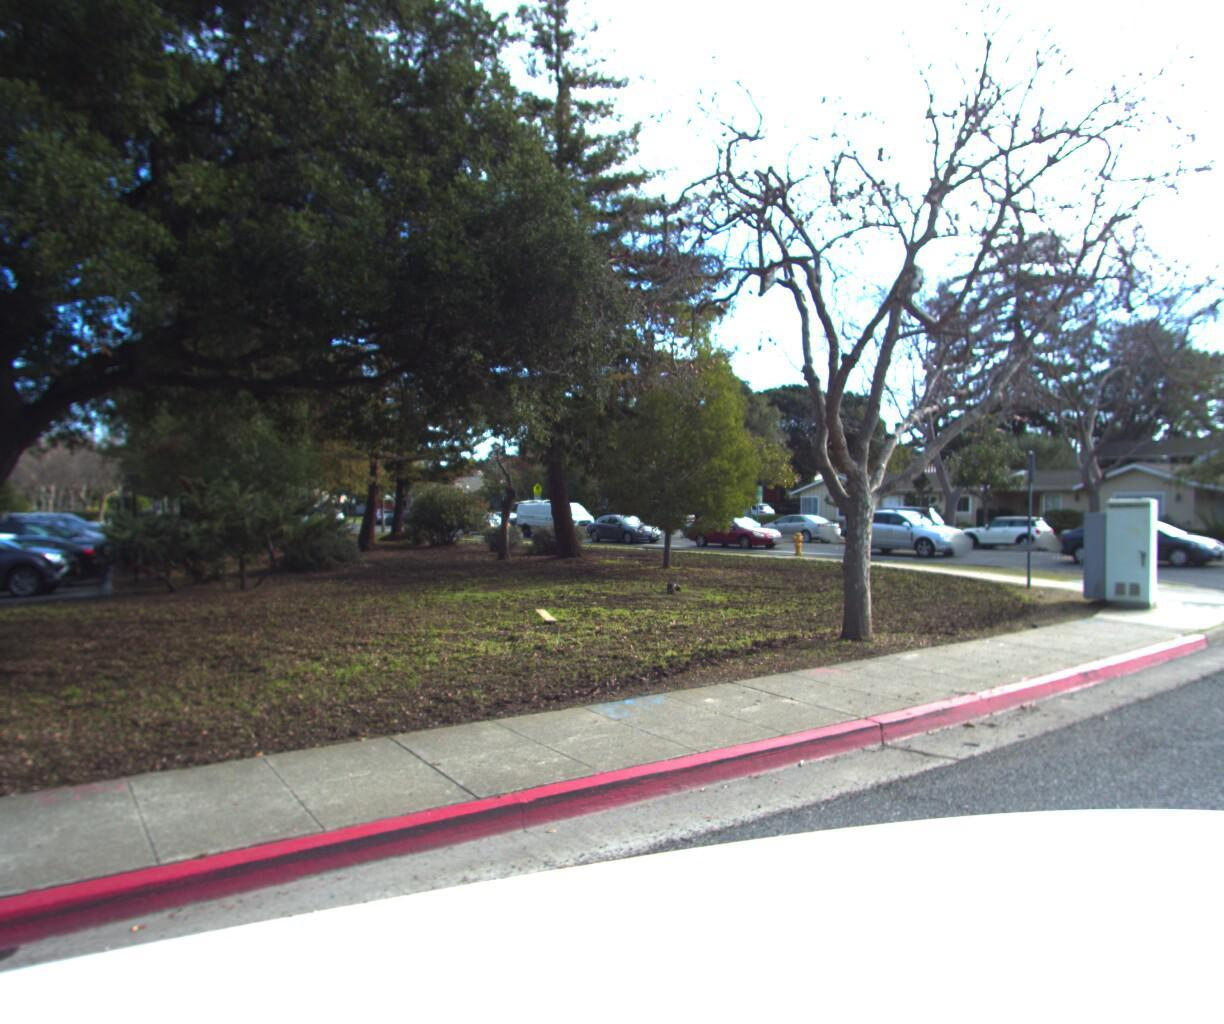car: (1055, 511, 1224, 569), (841, 494, 989, 557), (837, 498, 955, 547), (960, 507, 1072, 550), (684, 507, 798, 547), (513, 490, 606, 534), (758, 503, 851, 540), (584, 507, 675, 541)
